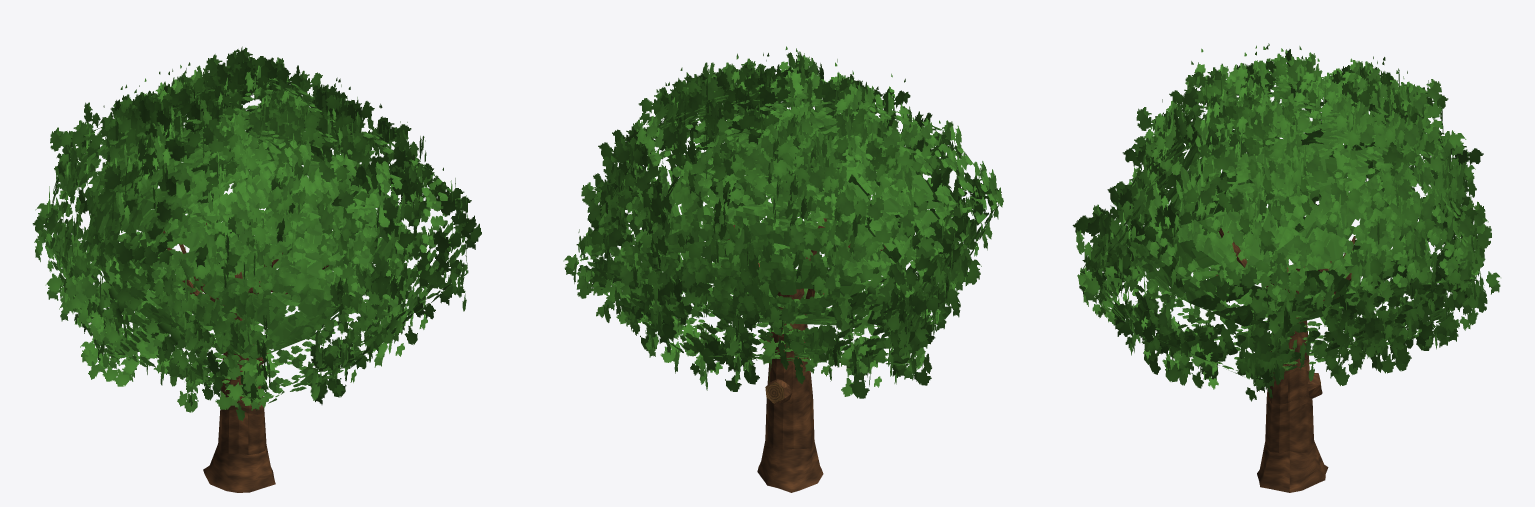
File: cow_tree_1.glb
3 views of the same model, side by side, from view 1: azimuth 30°, elevation 25°; view 2: azimuth 150°, elevation 25°; view 3: azimuth 270°, elevation 25° (orthographic). The views are drawn at different scales.
Visible parts, largest first — view 1: __exp_cow_tree_1_Canopy_Stump.001, __exp_cow_tree_1_LeafBlob_Skirt_Canopy_Stump.001, __exp_cow_tree_1_LeafBlob_Skirt_Canopy_Stump.001_inner, __exp_cow_tree_1_Trunk_Stump.001, __exp_cow_tree_1_Stump.001; view 2: __exp_cow_tree_1_Canopy_Stump.001, __exp_cow_tree_1_LeafBlob_Skirt_Canopy_Stump.001, __exp_cow_tree_1_LeafBlob_Skirt_Canopy_Stump.001_inner, __exp_cow_tree_1_Trunk_Stump.001, __exp_cow_tree_1_Stump.001; view 3: __exp_cow_tree_1_Canopy_Stump.001, __exp_cow_tree_1_LeafBlob_Skirt_Canopy_Stump.001, __exp_cow_tree_1_LeafBlob_Skirt_Canopy_Stump.001_inner, __exp_cow_tree_1_Trunk_Stump.001, __exp_cow_tree_1_Stump.001.
Part boxes in pixels (box(x1,y1,x2,y2)): __exp_cow_tree_1_Canopy_Stump.001: box(32, 46, 481, 421); __exp_cow_tree_1_LeafBlob_Skirt_Canopy_Stump.001: box(44, 78, 468, 403); __exp_cow_tree_1_LeafBlob_Skirt_Canopy_Stump.001_inner: box(86, 108, 404, 359); __exp_cow_tree_1_Trunk_Stump.001: box(163, 222, 329, 454); __exp_cow_tree_1_Stump.001: box(203, 444, 275, 492); __exp_cow_tree_1_Canopy_Stump.001: box(563, 46, 1003, 398); __exp_cow_tree_1_LeafBlob_Skirt_Canopy_Stump.001: box(578, 77, 999, 365); __exp_cow_tree_1_LeafBlob_Skirt_Canopy_Stump.001_inner: box(640, 110, 957, 326); __exp_cow_tree_1_Trunk_Stump.001: box(721, 218, 885, 449); __exp_cow_tree_1_Stump.001: box(757, 441, 823, 492); __exp_cow_tree_1_Canopy_Stump.001: box(1072, 43, 1500, 401); __exp_cow_tree_1_LeafBlob_Skirt_Canopy_Stump.001: box(1080, 78, 1480, 379); __exp_cow_tree_1_LeafBlob_Skirt_Canopy_Stump.001_inner: box(1135, 107, 1431, 330); __exp_cow_tree_1_Trunk_Stump.001: box(1216, 196, 1355, 453); __exp_cow_tree_1_Stump.001: box(1257, 441, 1328, 492).
Size of the model in its own units: 5.63 by 5.81 by 5.65.
Materials: 5 (5 with a texture image).
